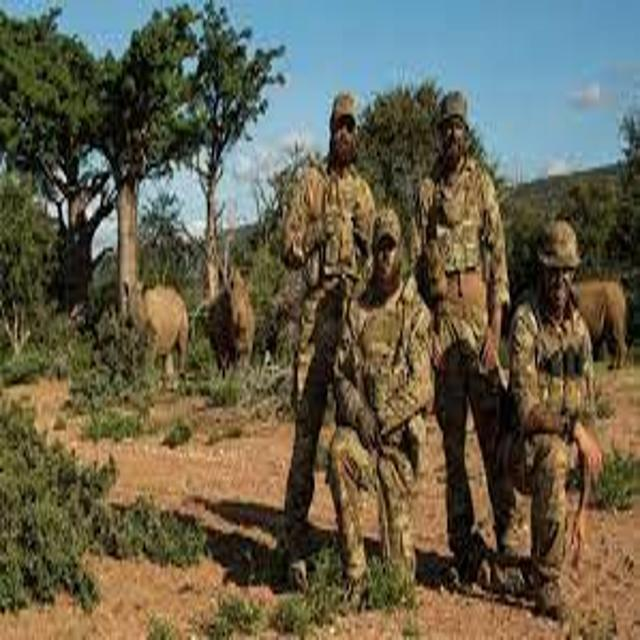ranger: (361, 72, 557, 605), (281, 180, 476, 621), (222, 64, 423, 460), (459, 207, 633, 632)
rhino: (103, 255, 211, 404), (181, 243, 272, 414)
